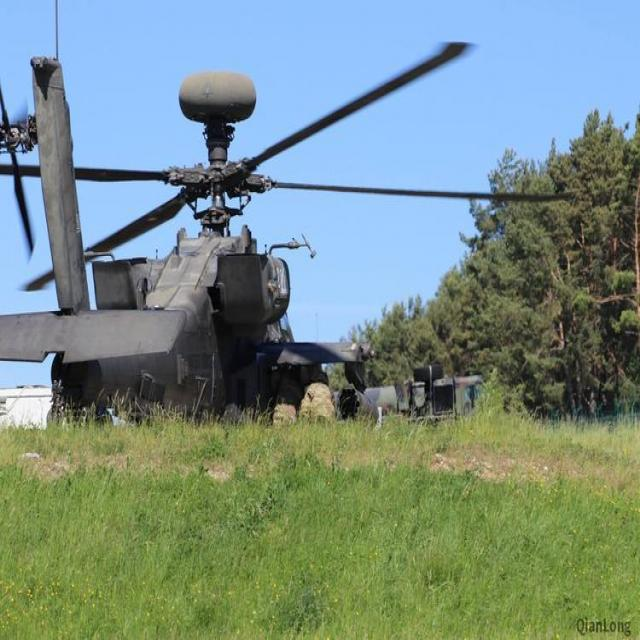MIL_HELO: (5, 52, 579, 436)
